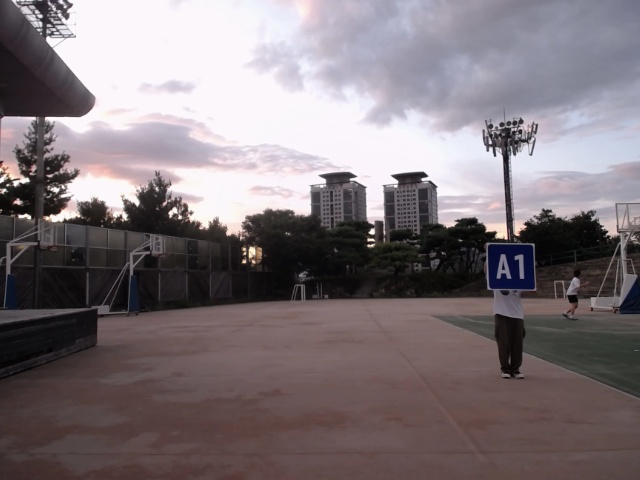delivery_a1: (487, 243, 536, 290)
